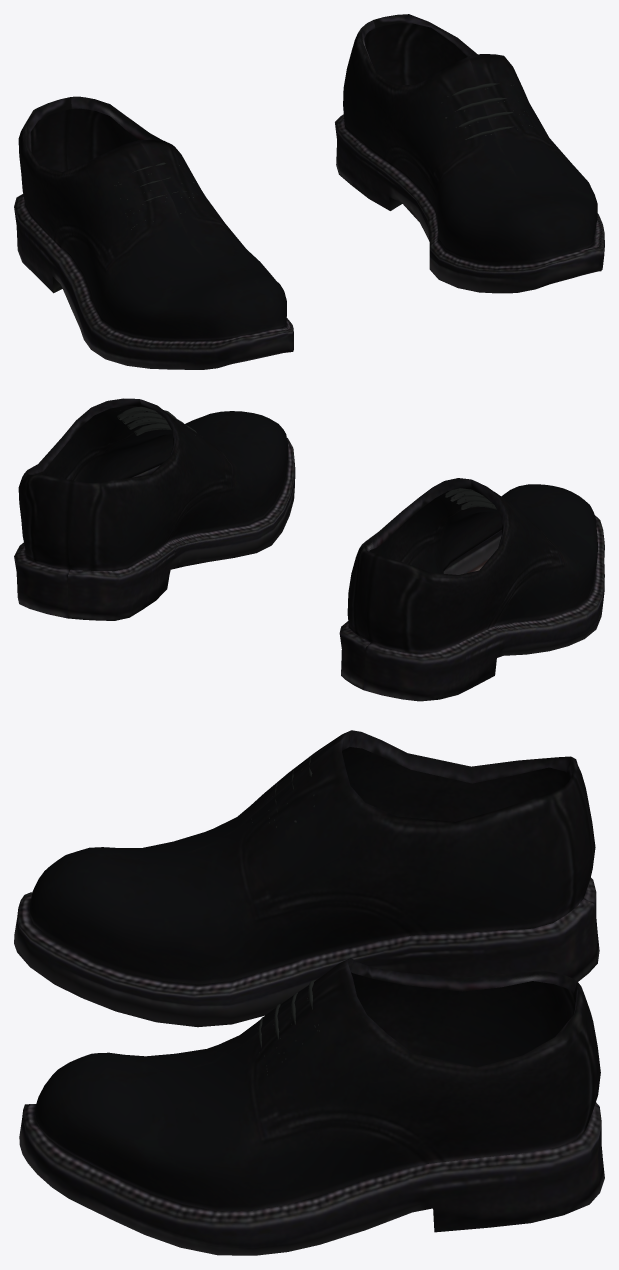
Rendered from shoes.fbx.
3 views of the same model, one above another, from view 1: azimuth 30°, elevation 25°; view 2: azimuth 150°, elevation 25°; view 3: azimuth 270°, elevation 25° (orthographic). The views are drawn at different scales.
Parts seen in each view (by area): view 1: mainChar:Oliver_Shoes; view 2: mainChar:Oliver_Shoes; view 3: mainChar:Oliver_Shoes.
Boxes of the visible parts, x1,y1,x2,y2 form: mainChar:Oliver_Shoes: [14, 14, 604, 369]; mainChar:Oliver_Shoes: [14, 398, 604, 701]; mainChar:Oliver_Shoes: [14, 730, 604, 1255].
Size of the model in its own units: 4.02 by 2.94 by 1.29.
1 material, 1 textured.
